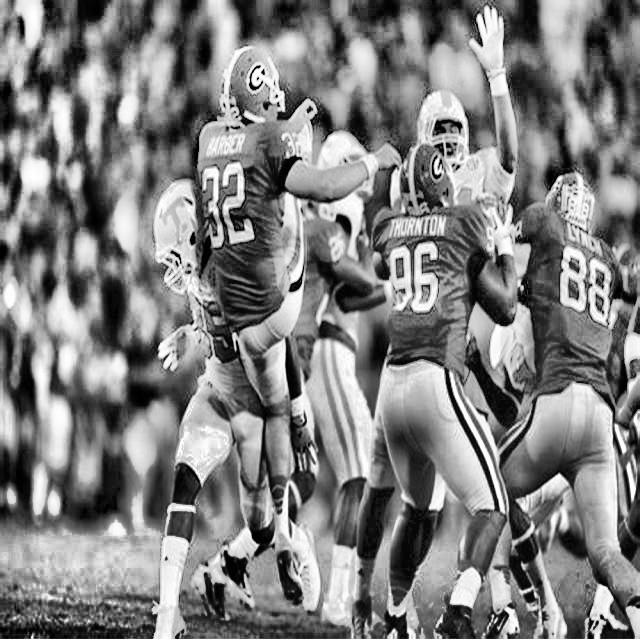Helmet: (150, 176, 210, 298), (218, 39, 288, 132), (412, 84, 472, 170), (394, 140, 456, 217), (544, 162, 596, 242)
